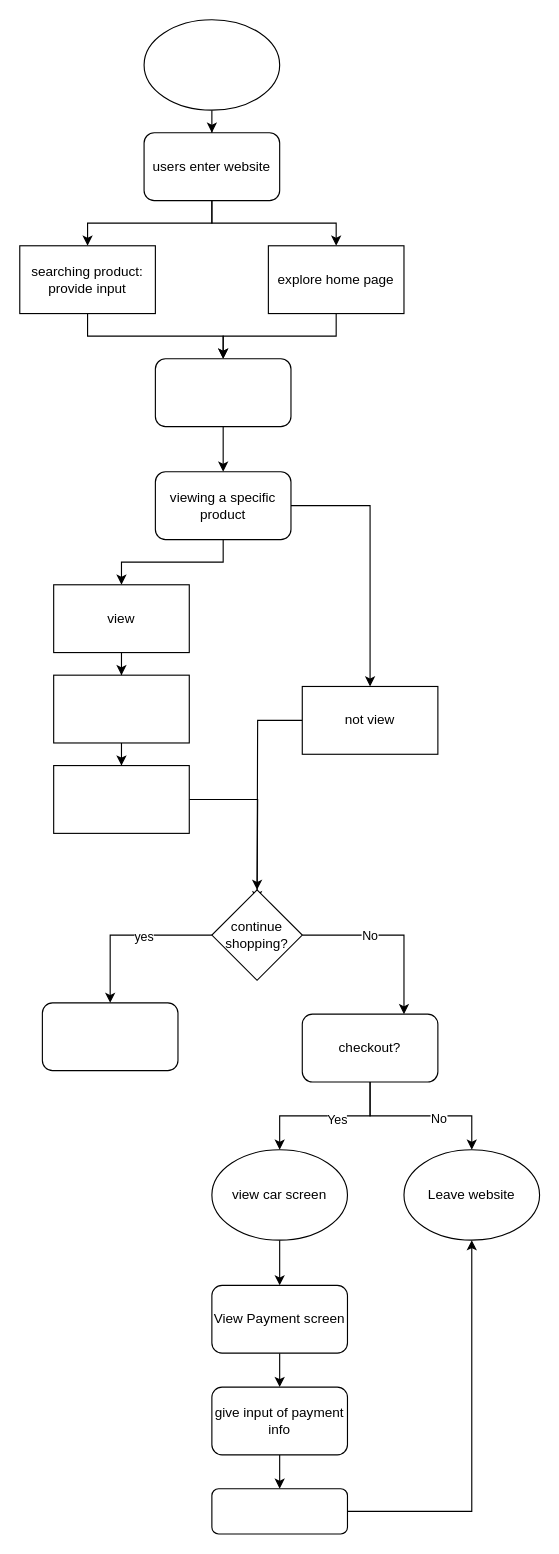
The diagram is 559 pixels wide and 1554 high, and some of its shapes have lost their labels. Each missing label, with the centre of its shape:
"add cart" belongs at (x=121, y=708).
"add cart comfirmation" belongs at (x=121, y=798).
"looking over products" belongs at (x=222, y=392).
"order confirmation and receive email" belongs at (x=279, y=1511).
"search new product?" belongs at (x=109, y=1036).
"start" belongs at (x=211, y=64).
